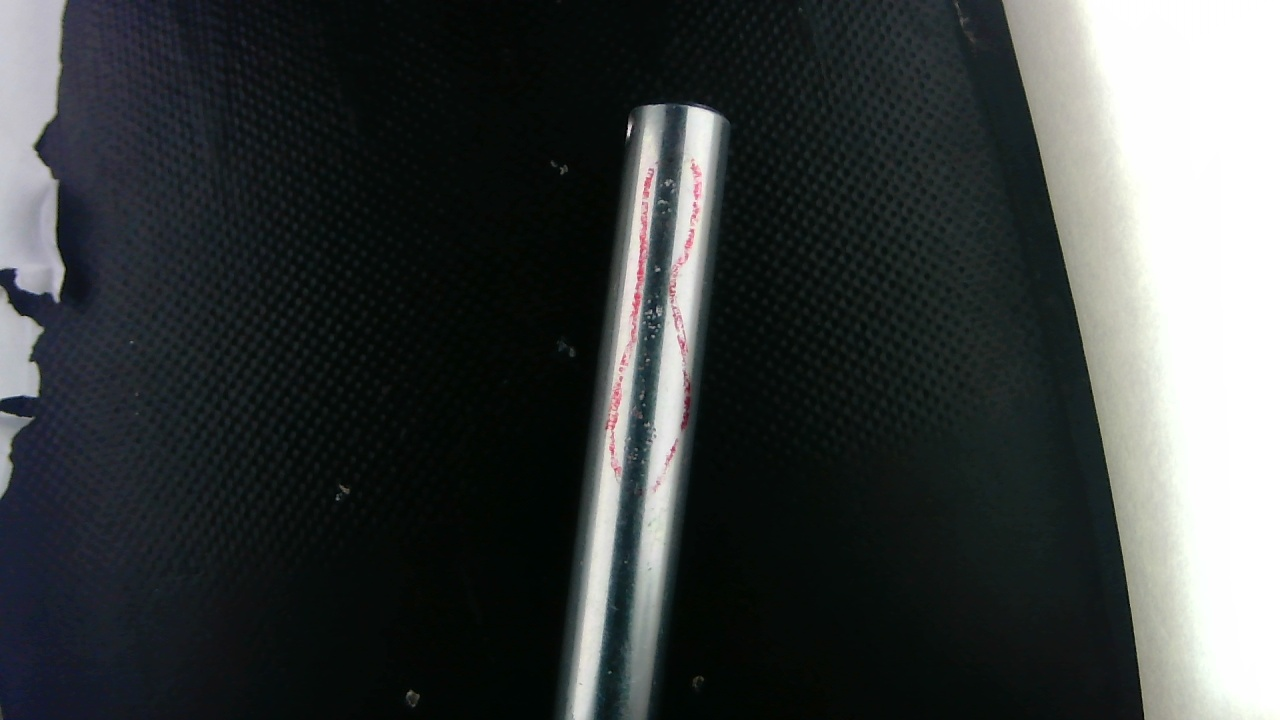pitmark_pin: (619, 164, 680, 478)
